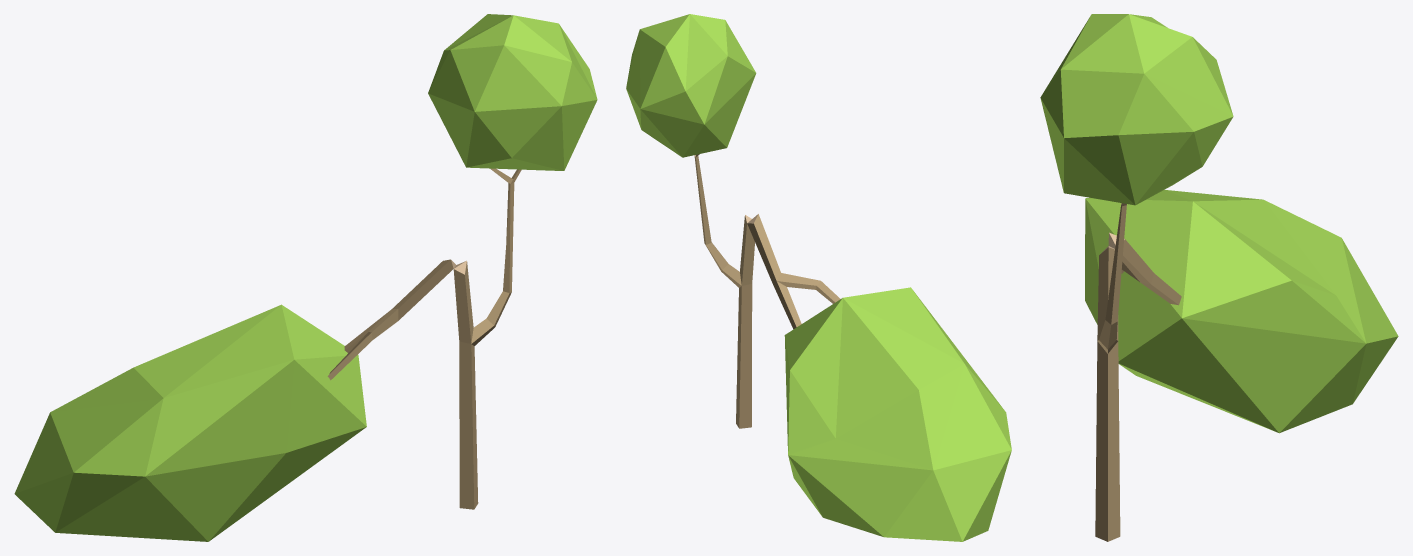
The model's file is Random_Tree_crk_s_01_LOD.fbx.
3 renders of one model, left to right at view 1: azimuth 30°, elevation 25°; view 2: azimuth 150°, elevation 25°; view 3: azimuth 270°, elevation 25°, orthographic. The views are drawn at different scales.
Visible parts, largest first — view 1: Random_Tree_crk_s_01_LOD0; view 2: Random_Tree_crk_s_01_LOD0; view 3: Random_Tree_crk_s_01_LOD0.
Boxes of the visible parts, x1,y1,x2,y2 form: Random_Tree_crk_s_01_LOD0: (14, 14, 597, 541); Random_Tree_crk_s_01_LOD0: (626, 14, 1011, 541); Random_Tree_crk_s_01_LOD0: (1040, 14, 1398, 541).
Size of what is drawn, in the model's own units: 291 by 273 by 160.
